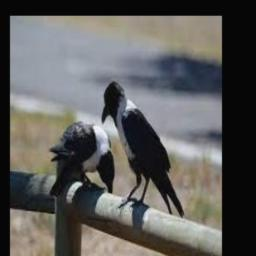Crow: (101, 82, 184, 221), (50, 121, 114, 194)
